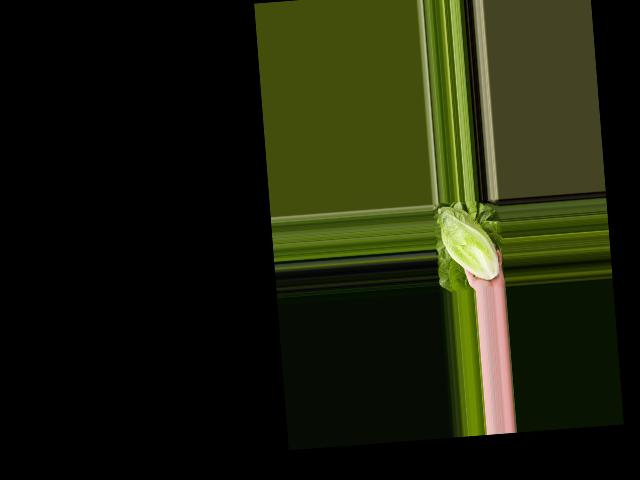lettuce: (436, 202, 502, 284)
